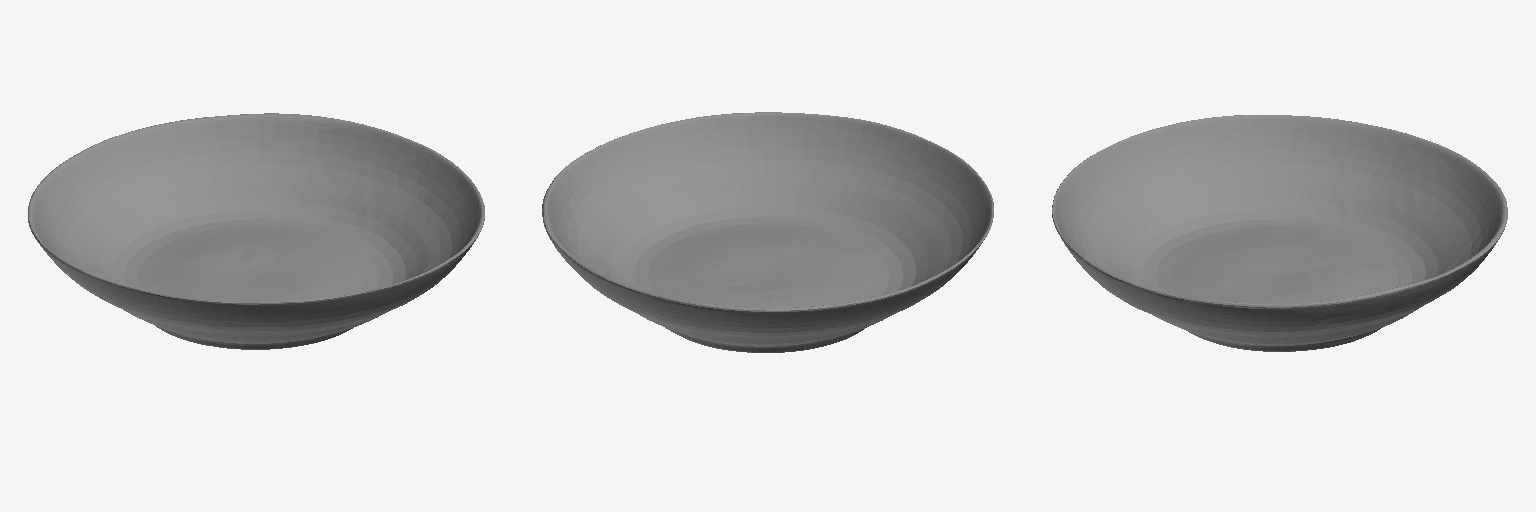
3 views of the same model, side by side, from view 1: azimuth 30°, elevation 25°; view 2: azimuth 150°, elevation 25°; view 3: azimuth 270°, elevation 25° (orthographic).
Visible parts, largest first — view 1: SZB_YS_132; view 2: SZB_YS_132; view 3: SZB_YS_132.
Boxes of the visible parts, x1=… form: SZB_YS_132: x1=28, y1=113, x2=484, y2=349; SZB_YS_132: x1=542, y1=112, x2=993, y2=352; SZB_YS_132: x1=1052, y1=115, x2=1507, y2=351.
Size of the model in its own units: 1.49 by 0.3522 by 1.49.